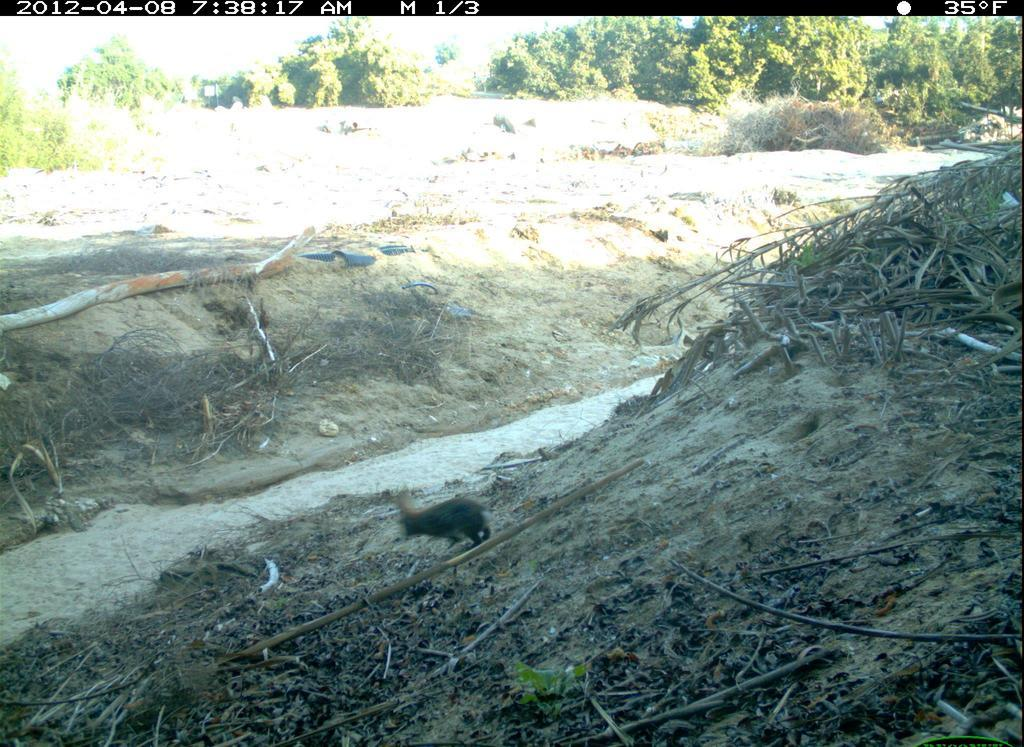rabbit: (372, 479, 510, 561)
